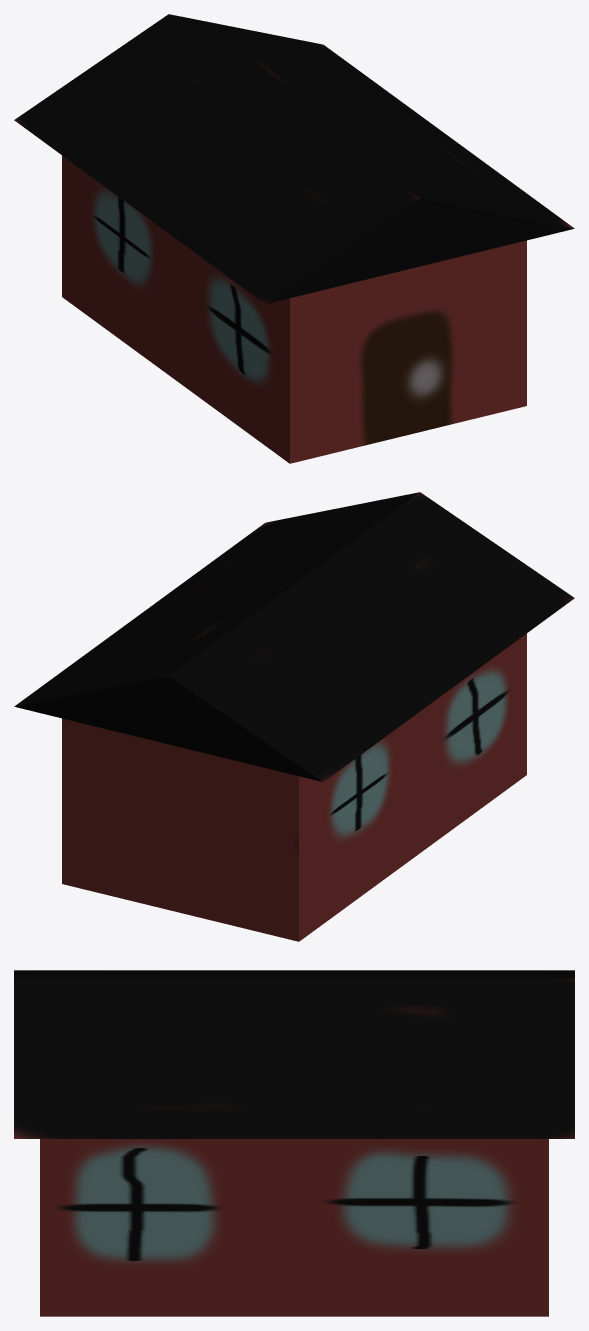
Rendered from House.fbx.
The picture shows the model from 3 angles, top to bottom: view 1: azimuth 30°, elevation 25°; view 2: azimuth 150°, elevation 25°; view 3: azimuth 270°, elevation 25°; orthographic projection. The views are drawn at different scales.
Visible parts, largest first — view 1: Cube.001; view 2: Cube.001; view 3: Cube.001.
Part boxes in pixels (box(x1,y1,x2,y2)): Cube.001: box(14, 14, 574, 463); Cube.001: box(14, 492, 574, 941); Cube.001: box(14, 970, 574, 1316).
Size of the model in its own units: 1194 by 904 by 1680.
